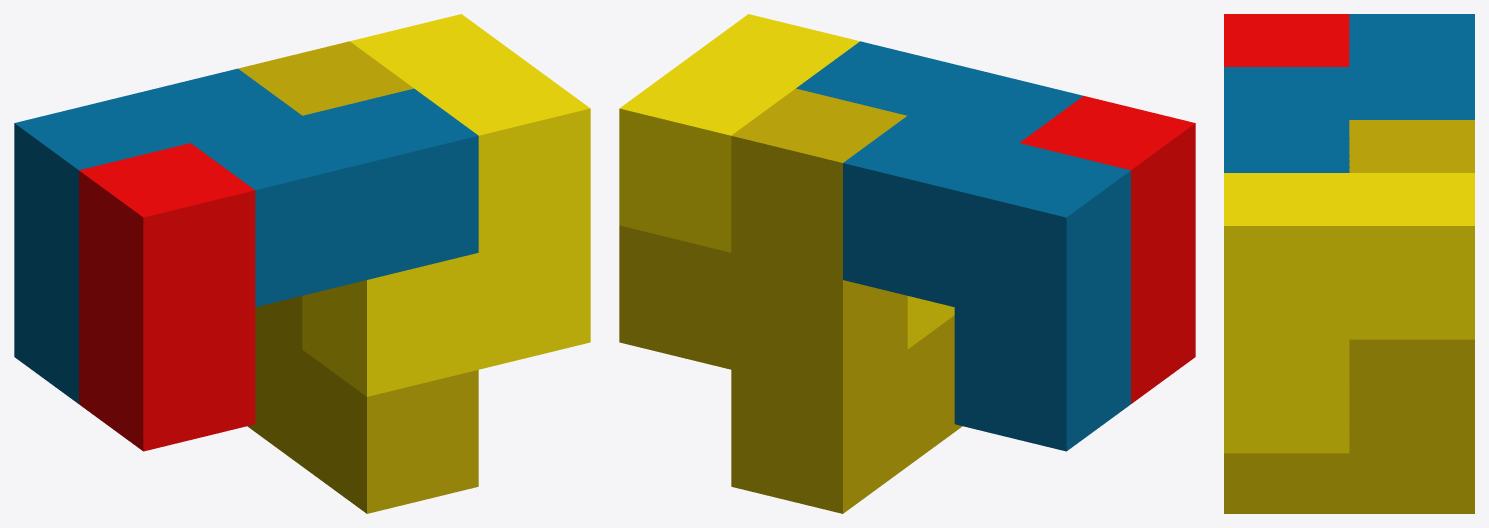
The picture shows the model from 3 angles, left to right: view 1: azimuth 30°, elevation 25°; view 2: azimuth 150°, elevation 25°; view 3: azimuth 270°, elevation 25°; orthographic projection. The views are drawn at different scales.
Visible parts, largest first — view 1: mergedBlocks(Clone); view 2: mergedBlocks(Clone); view 3: mergedBlocks(Clone).
Part boxes in pixels (left/top/right/bottom): mergedBlocks(Clone): left=14, top=14, right=590, bottom=513; mergedBlocks(Clone): left=619, top=14, right=1195, bottom=513; mergedBlocks(Clone): left=1224, top=14, right=1474, bottom=513.
Size of the model in its own units: 4 by 3 by 2.
4 materials, 4 textured.
